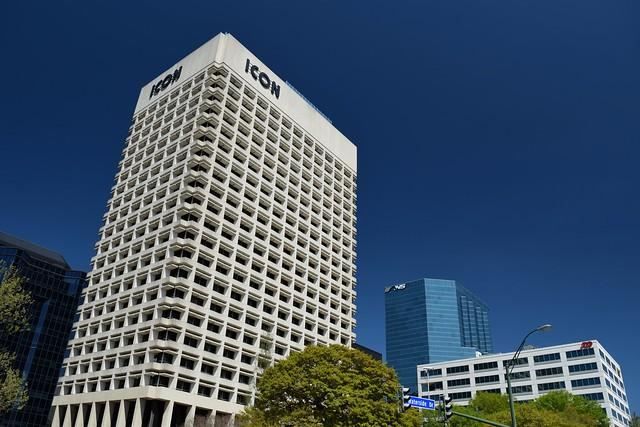building: (46, 30, 361, 422)
